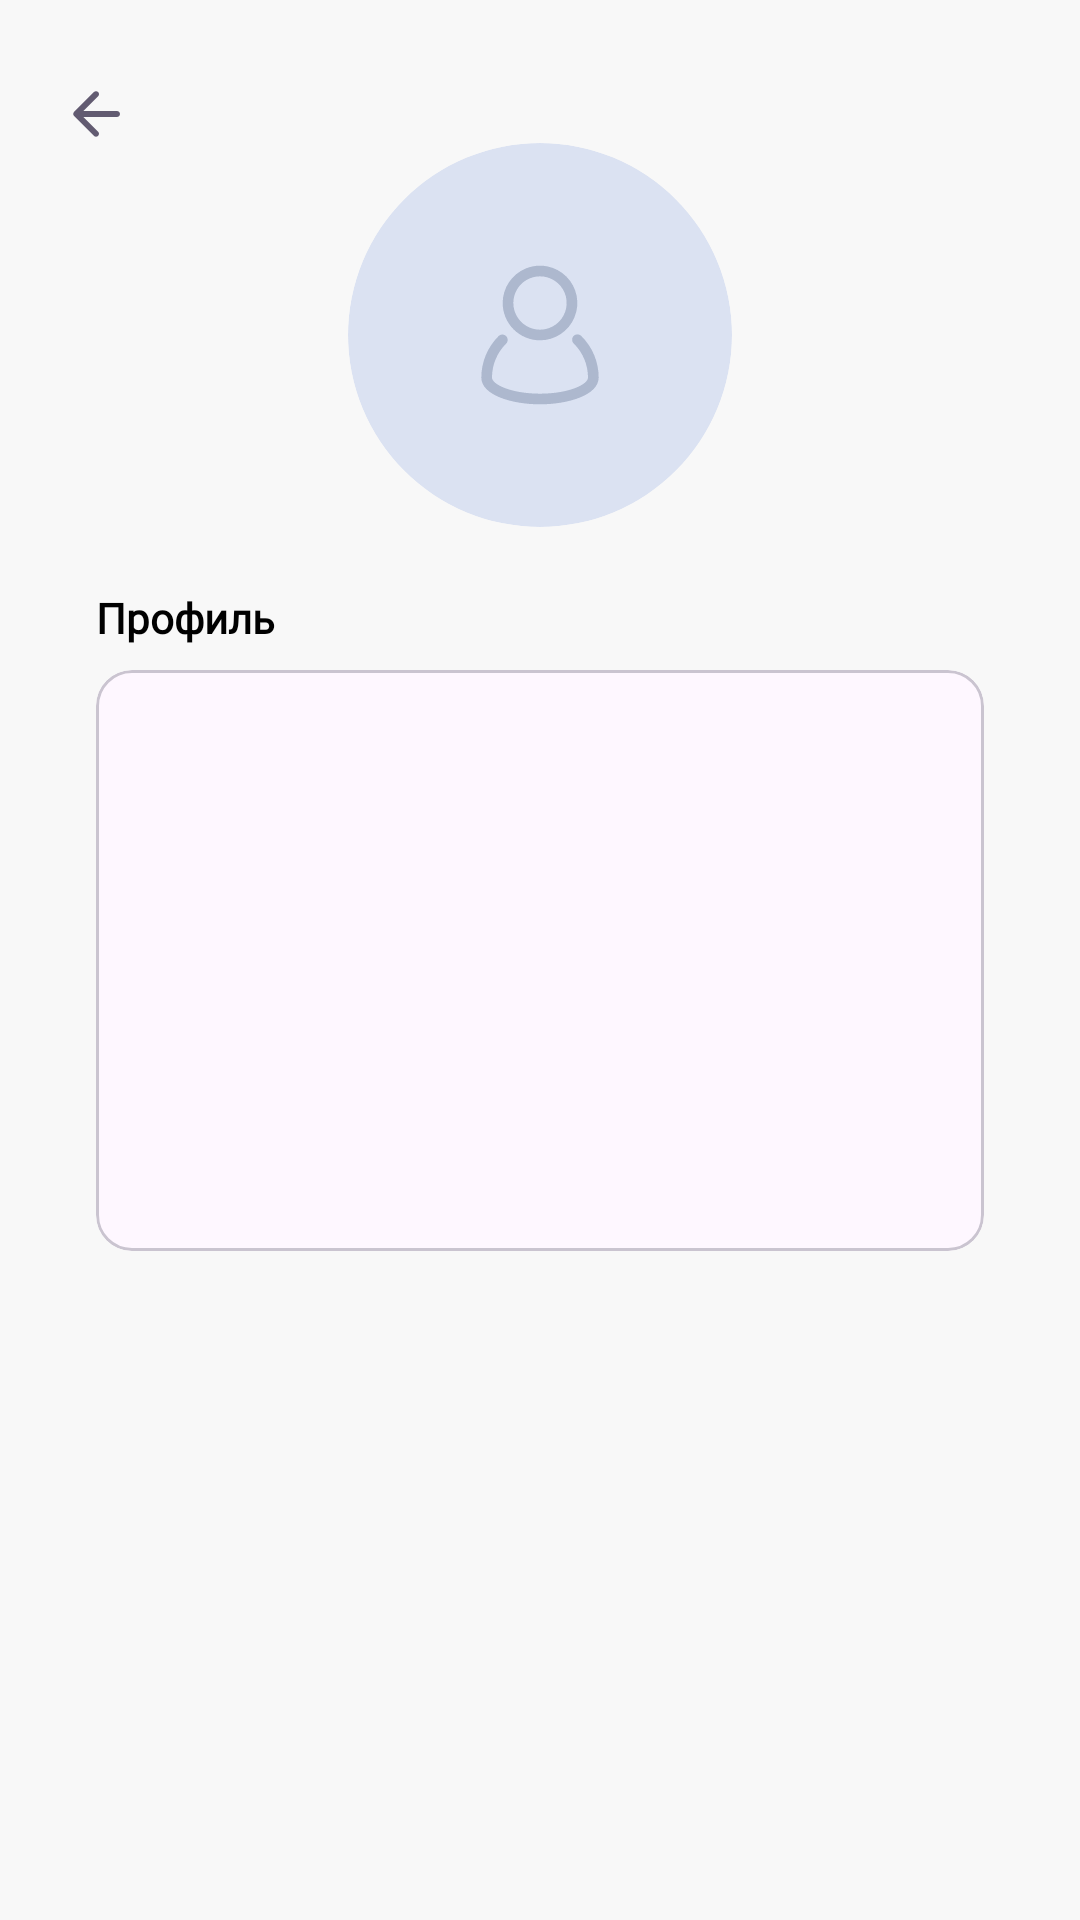

Icon bounding boxes for this 1080 x 1920 phone screenshot, format (x1, y1, x2, y2):
arrow back: (73, 91, 120, 137)
